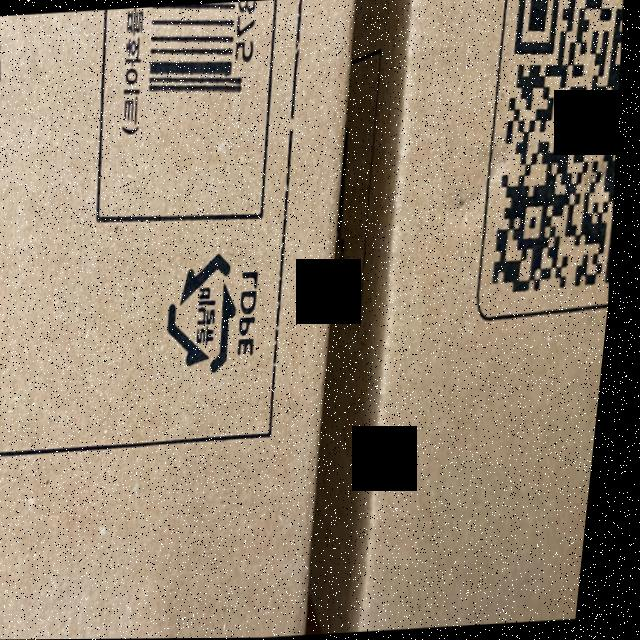Vinyl: (163, 250, 252, 378)
